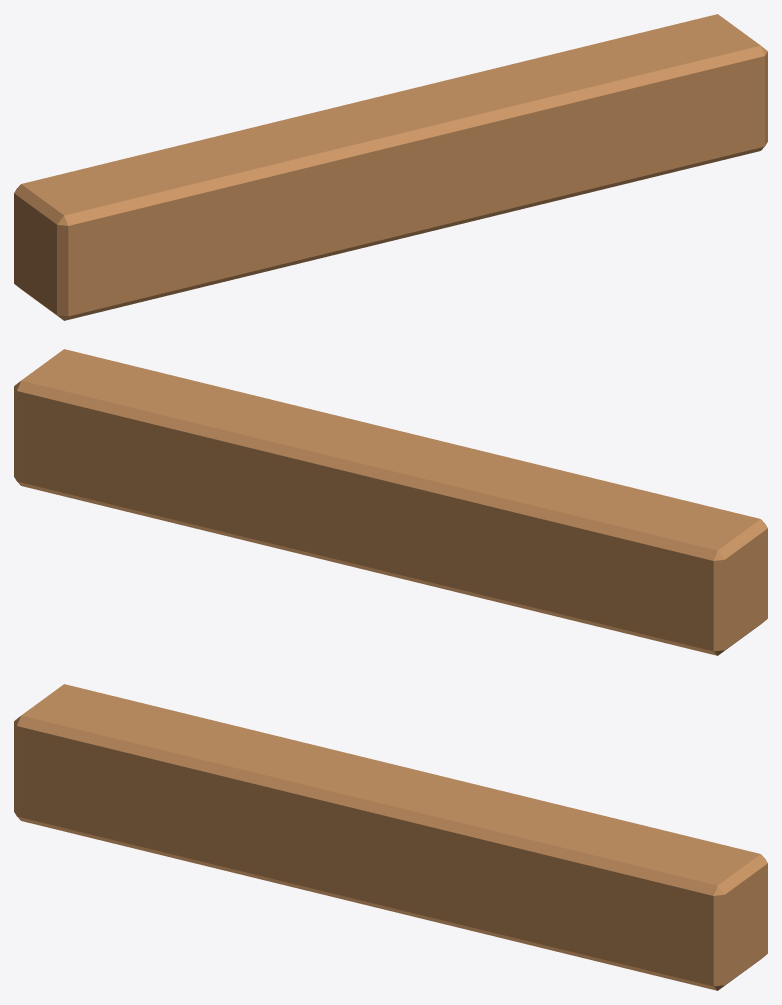
3 renders of one model, top to bottom at view 1: azimuth 30°, elevation 25°; view 2: azimuth 150°, elevation 25°; view 3: azimuth 330°, elevation 25°, orthographic.
Parts seen in each view (by area): view 1: Cube.022; view 2: Cube.022; view 3: Cube.022.
Boxes of the visible parts, bbox=[...] form: Cube.022: bbox=[14, 14, 767, 320]; Cube.022: bbox=[14, 349, 767, 655]; Cube.022: bbox=[14, 684, 767, 990].
Bounding box in the file's own units: 3 × 0.4249 × 0.375.
